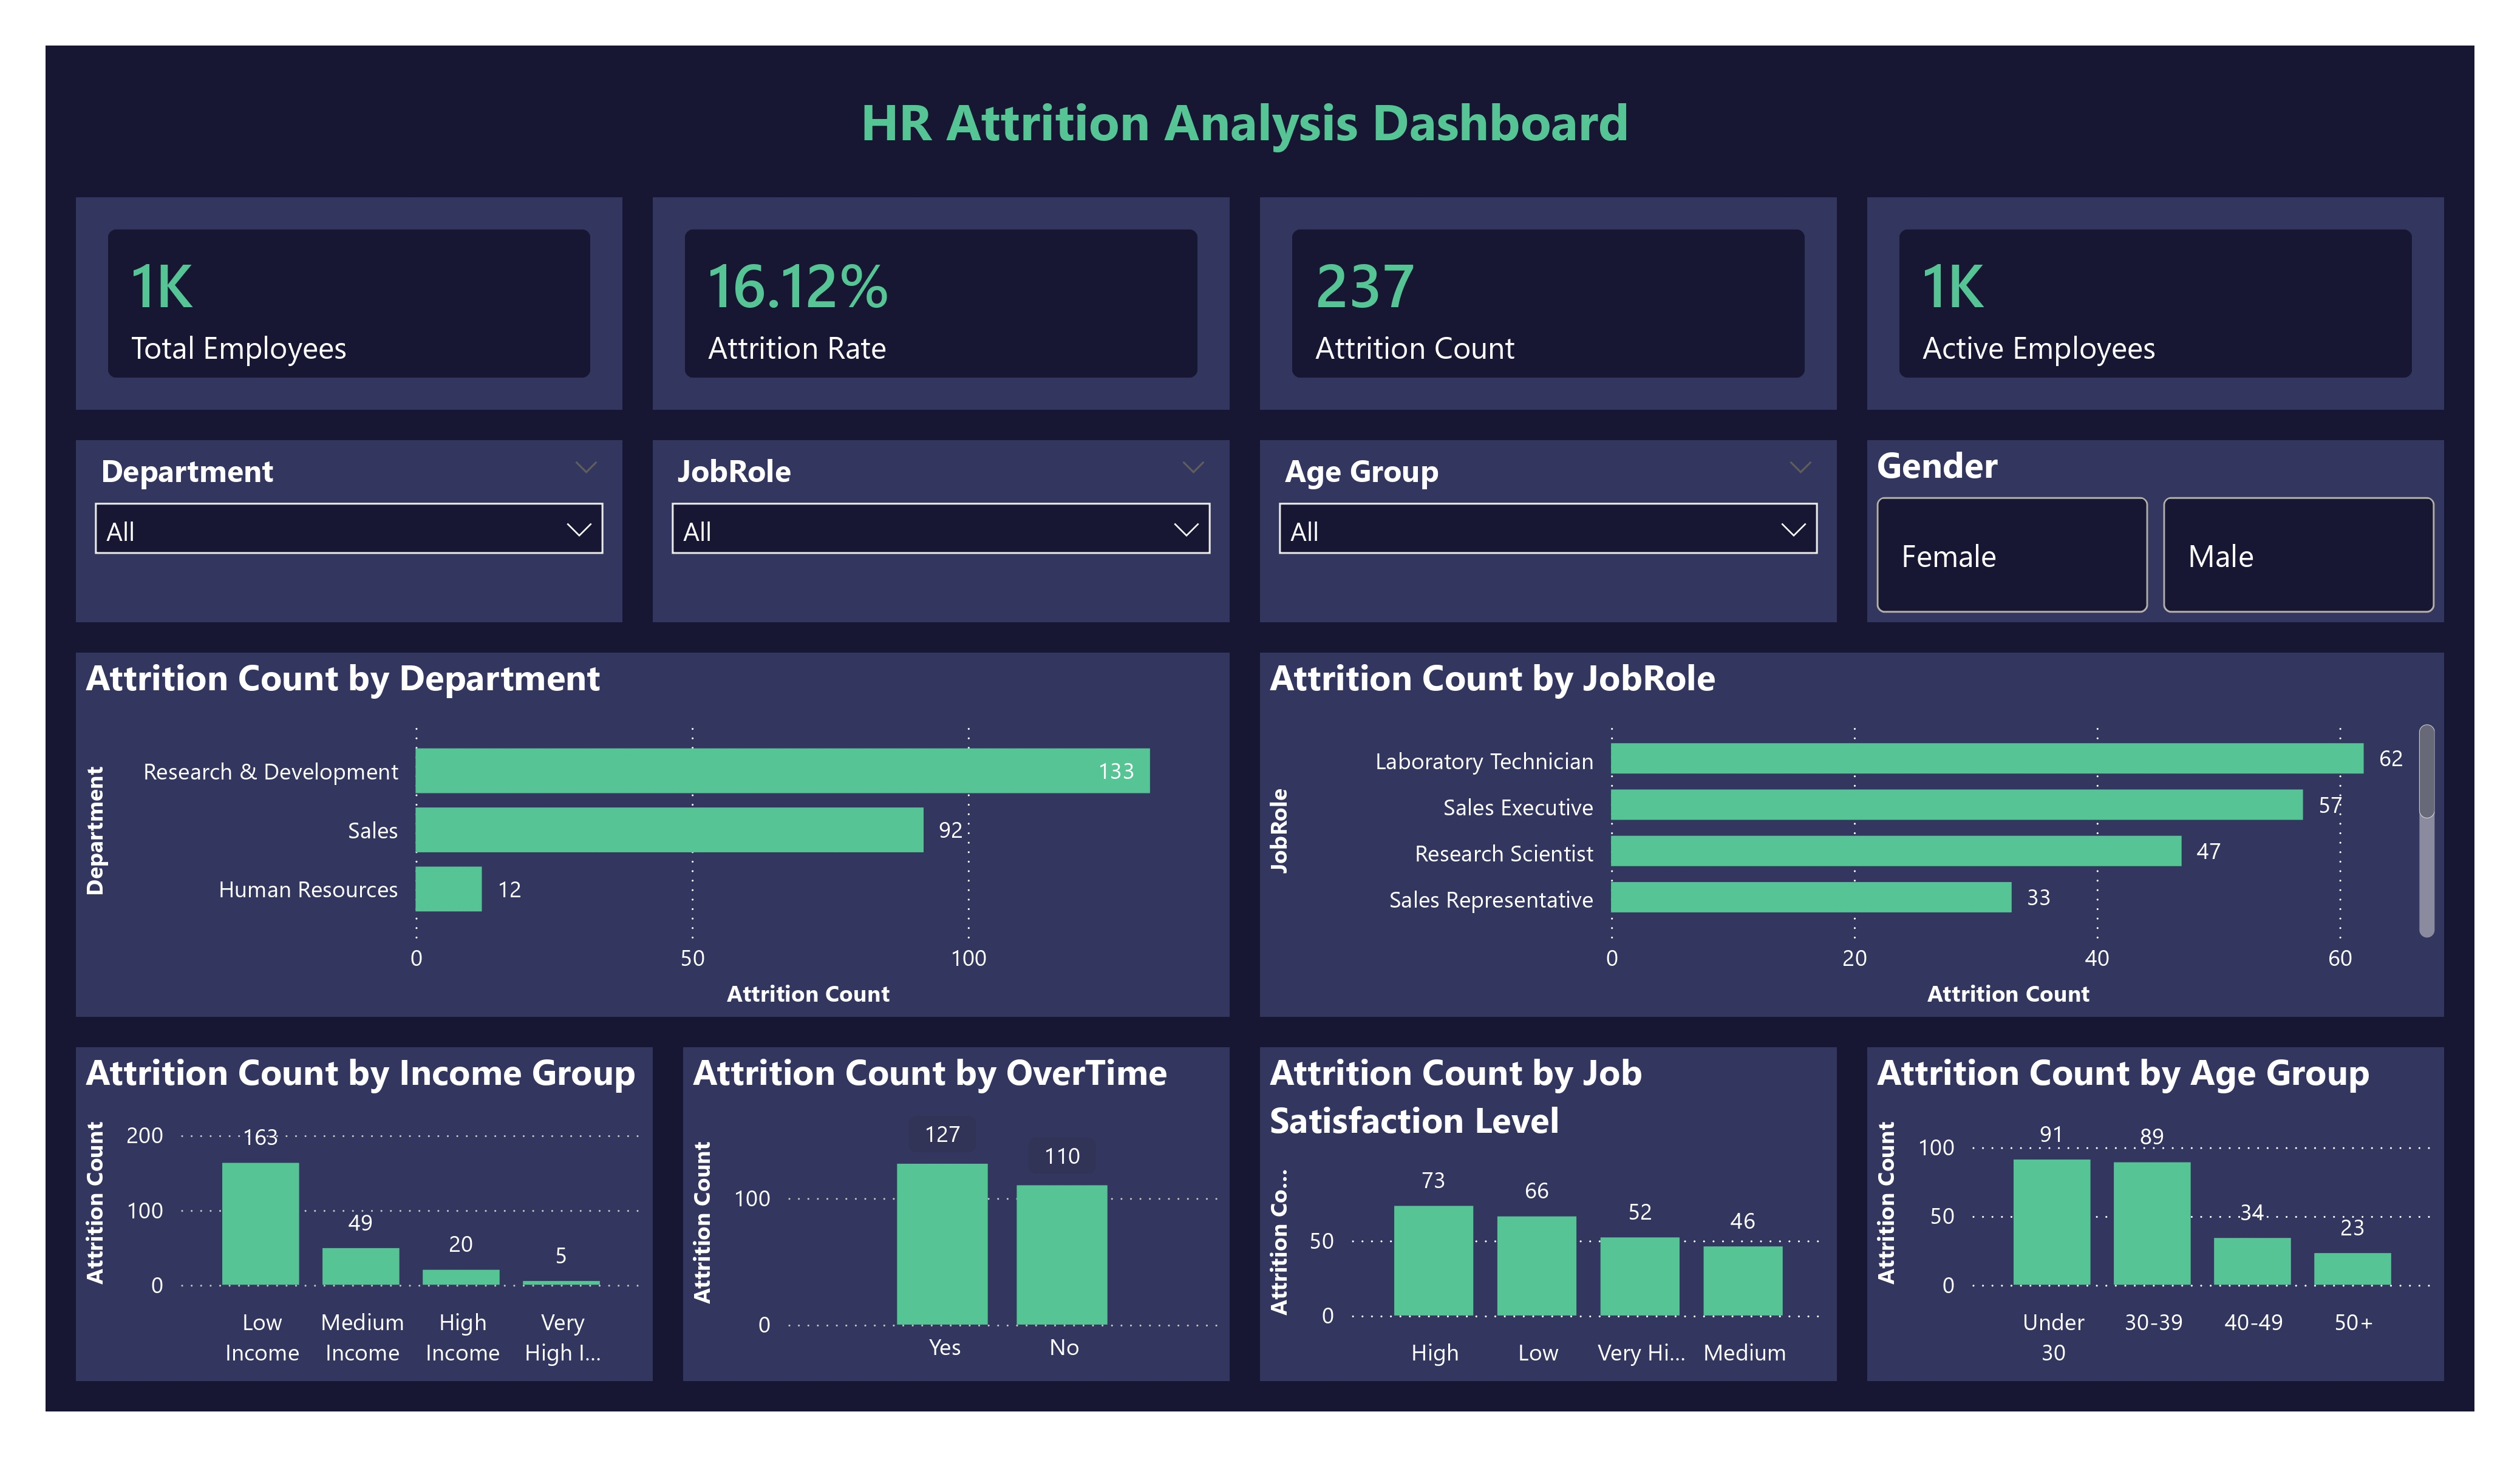

Layout of this report page (visuals, bound fields, positions):
{"tool":"powerbi","page":{"name":"Page 1","canvas":[1280,720],"ordinal":0},"visuals":[{"type":"cardVisual","fields":{"Data":["HR_Data.Attrition Rate"]},"box":[320,80,304,112],"z":0},{"type":"cardVisual","fields":{"Data":["HR_Data.Total Employees"]},"box":[16,80,288,112],"z":1000},{"type":"cardVisual","fields":{"Data":["HR_Data.Attrition Count"]},"box":[640,80,304,112],"z":2000},{"type":"cardVisual","fields":{"Data":["HR_Data.Active Employees"]},"box":[960,80,304,112],"z":3000},{"type":"textbox","box":[224,16,816,48],"z":4000},{"type":"slicer","fields":{"Values":["HR_Data.Department"]},"box":[16,208,288,96],"z":5000},{"type":"slicer","fields":{"Values":["HR_Data.JobRole"]},"box":[320,208,304,96],"z":6000},{"type":"clusteredBarChart","fields":{"Category":["HR_Data.Department"],"Y":["HR_Data.Attrition Count"]},"box":[16,320,608,192],"z":7000},{"type":"clusteredBarChart","fields":{"Category":["HR_Data.JobRole"],"Y":["HR_Data.Attrition Count"]},"box":[640,320,624,192],"z":9500},{"type":"columnChart","fields":{"Category":["HR_Data.Age Group"],"Y":["HR_Data.Attrition Count"]},"box":[960,528,304,176],"z":9750},{"type":"columnChart","fields":{"Category":["HR_Data.Income Group"],"Y":["HR_Data.Attrition Count"]},"box":[16,528,304,176],"z":10000},{"type":"columnChart","fields":{"Category":["HR_Data.OverTime"],"Y":["HR_Data.Attrition Count"]},"box":[336,528,288,176],"z":11000},{"type":"advancedSlicerVisual","fields":{"Values":["HR_Data.Gender"]},"box":[960,208,304,96],"z":12000},{"type":"clusteredColumnChart","fields":{"Category":["HR_Data.Job Satisfaction Level"],"Y":["HR_Data.Attrition Count"]},"box":[640,528,304,176],"z":13000},{"type":"slicer","fields":{"Values":["HR_Data.Age Group"]},"box":[640,208,304,96],"z":14000}]}

Visuals, with their boxes on the page's 1280x720 design canvas (x1, y1, x2, y2). These are canvas units, not pixel positions in the 2520x1457 screenshot, which may show the page scaled, cropped or inside an application window:
cardVisual - HR_Data.Attrition Rate: BBox(320, 80, 624, 192)
cardVisual - HR_Data.Total Employees: BBox(16, 80, 304, 192)
cardVisual - HR_Data.Attrition Count: BBox(640, 80, 944, 192)
cardVisual - HR_Data.Active Employees: BBox(960, 80, 1264, 192)
textbox: BBox(224, 16, 1040, 64)
slicer - HR_Data.Department: BBox(16, 208, 304, 304)
slicer - HR_Data.JobRole: BBox(320, 208, 624, 304)
clusteredBarChart - HR_Data.Department x HR_Data.Attrition Count: BBox(16, 320, 624, 512)
clusteredBarChart - HR_Data.JobRole x HR_Data.Attrition Count: BBox(640, 320, 1264, 512)
columnChart - HR_Data.Age Group x HR_Data.Attrition Count: BBox(960, 528, 1264, 704)
columnChart - HR_Data.Income Group x HR_Data.Attrition Count: BBox(16, 528, 320, 704)
columnChart - HR_Data.OverTime x HR_Data.Attrition Count: BBox(336, 528, 624, 704)
advancedSlicerVisual - HR_Data.Gender: BBox(960, 208, 1264, 304)
clusteredColumnChart - HR_Data.Job Satisfaction Level x HR_Data.Attrition Count: BBox(640, 528, 944, 704)
slicer - HR_Data.Age Group: BBox(640, 208, 944, 304)
